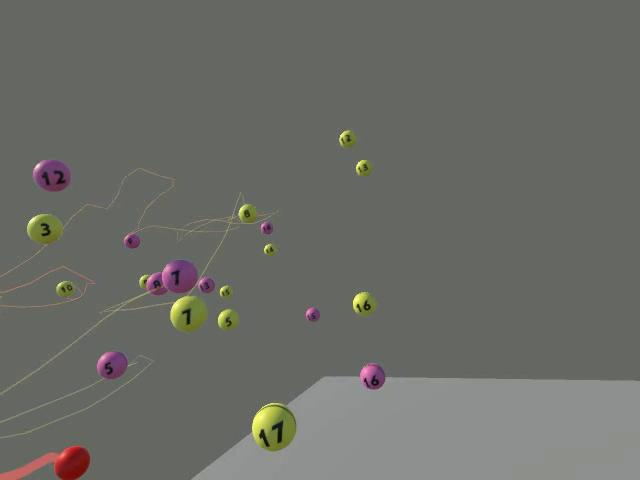ball_03_yellow: (26, 213, 62, 244)
ball_05_pink: (96, 351, 127, 379)
ball_05_yellow: (217, 308, 238, 330)
ball_07_pink: (161, 259, 197, 293)
ball_07_yellow: (169, 295, 207, 332)
ball_08_yellow: (237, 203, 256, 222)
ball_09_pink: (123, 232, 140, 248)
ball_10_yellow: (55, 280, 74, 297)
ball_12_pink: (32, 159, 71, 191)
ball_12_yellow: (338, 129, 356, 148)
ball_13_pink: (198, 276, 214, 293)
ball_13_yellow: (355, 159, 372, 176)
ball_14_pink: (260, 221, 273, 234)
ball_14_yellow: (263, 243, 276, 256)
ball_15_pink: (305, 306, 320, 322)
ball_15_yellow: (219, 284, 232, 298)
ball_16_pink: (359, 363, 385, 389)
ball_16_yellow: (352, 291, 375, 315)
ball_17_yellow: (251, 402, 296, 451)
ball_unknown: (145, 272, 167, 295), (138, 273, 149, 289)
user_cursor: (53, 445, 90, 479)
